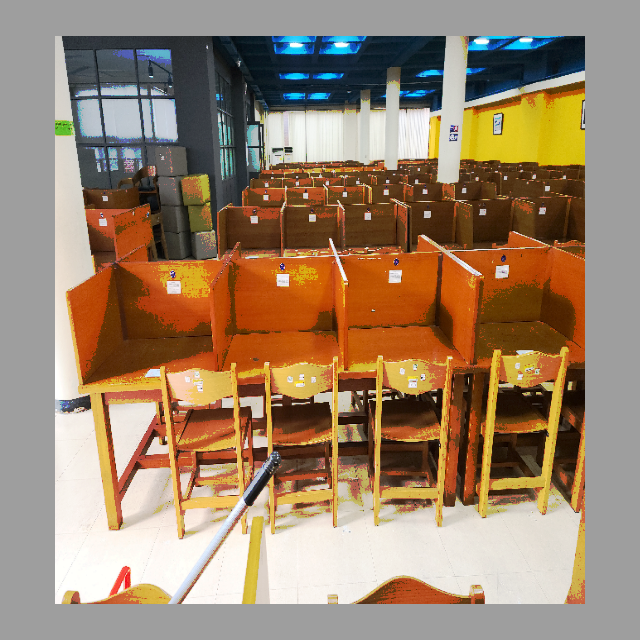empty: (86, 263, 220, 435), (353, 254, 471, 439), (232, 257, 348, 440)
